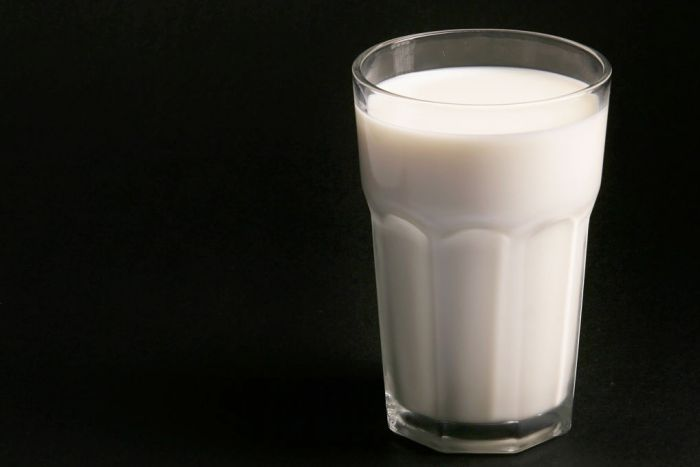glass of milk: (347, 32, 601, 448)
